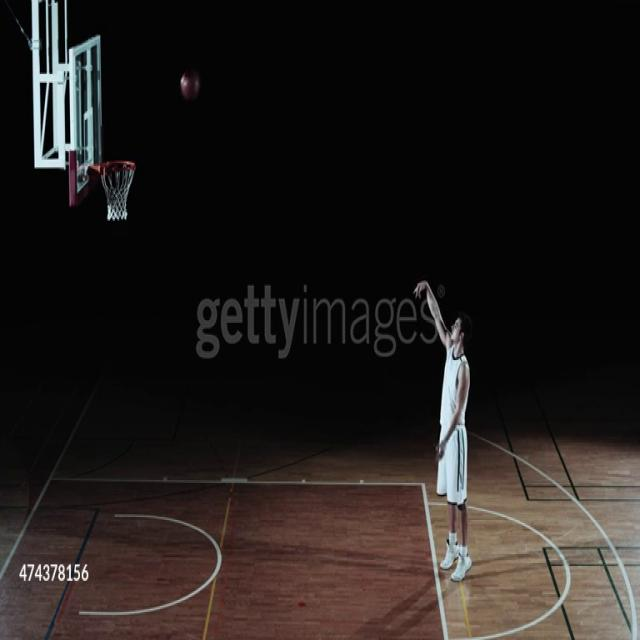ball: (179, 68, 202, 104)
